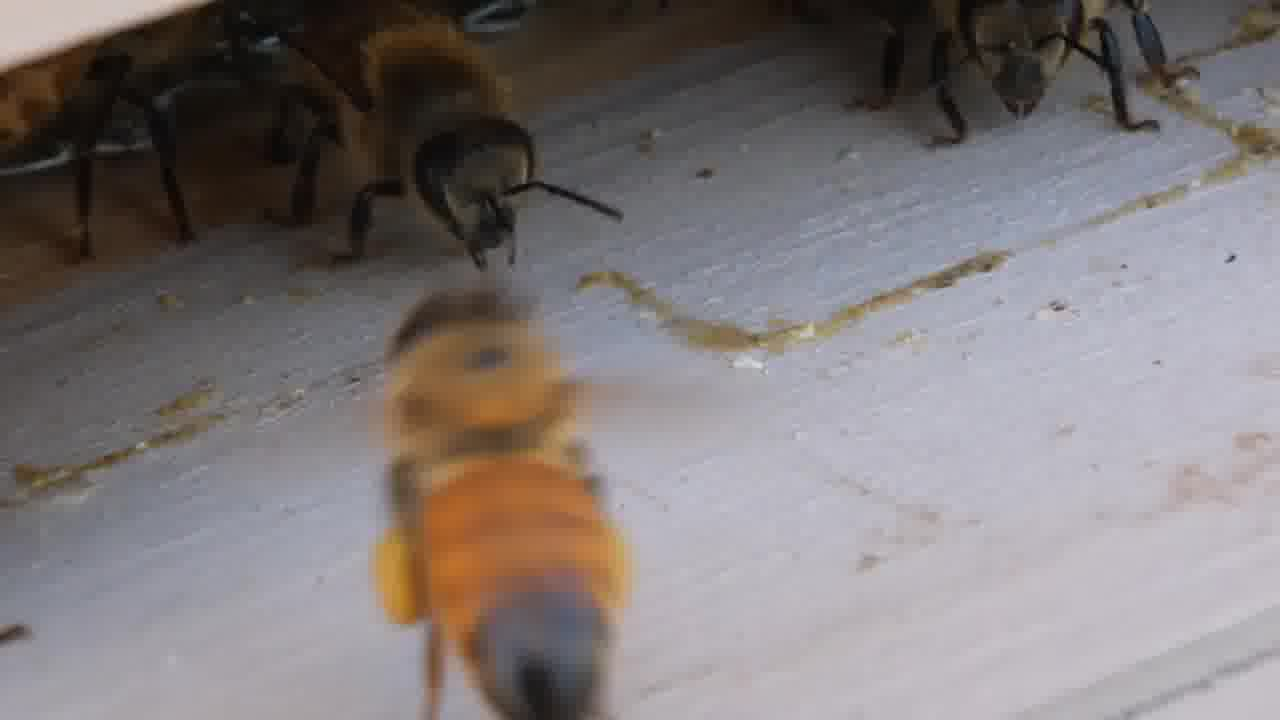pollen: (369, 289, 653, 714)
